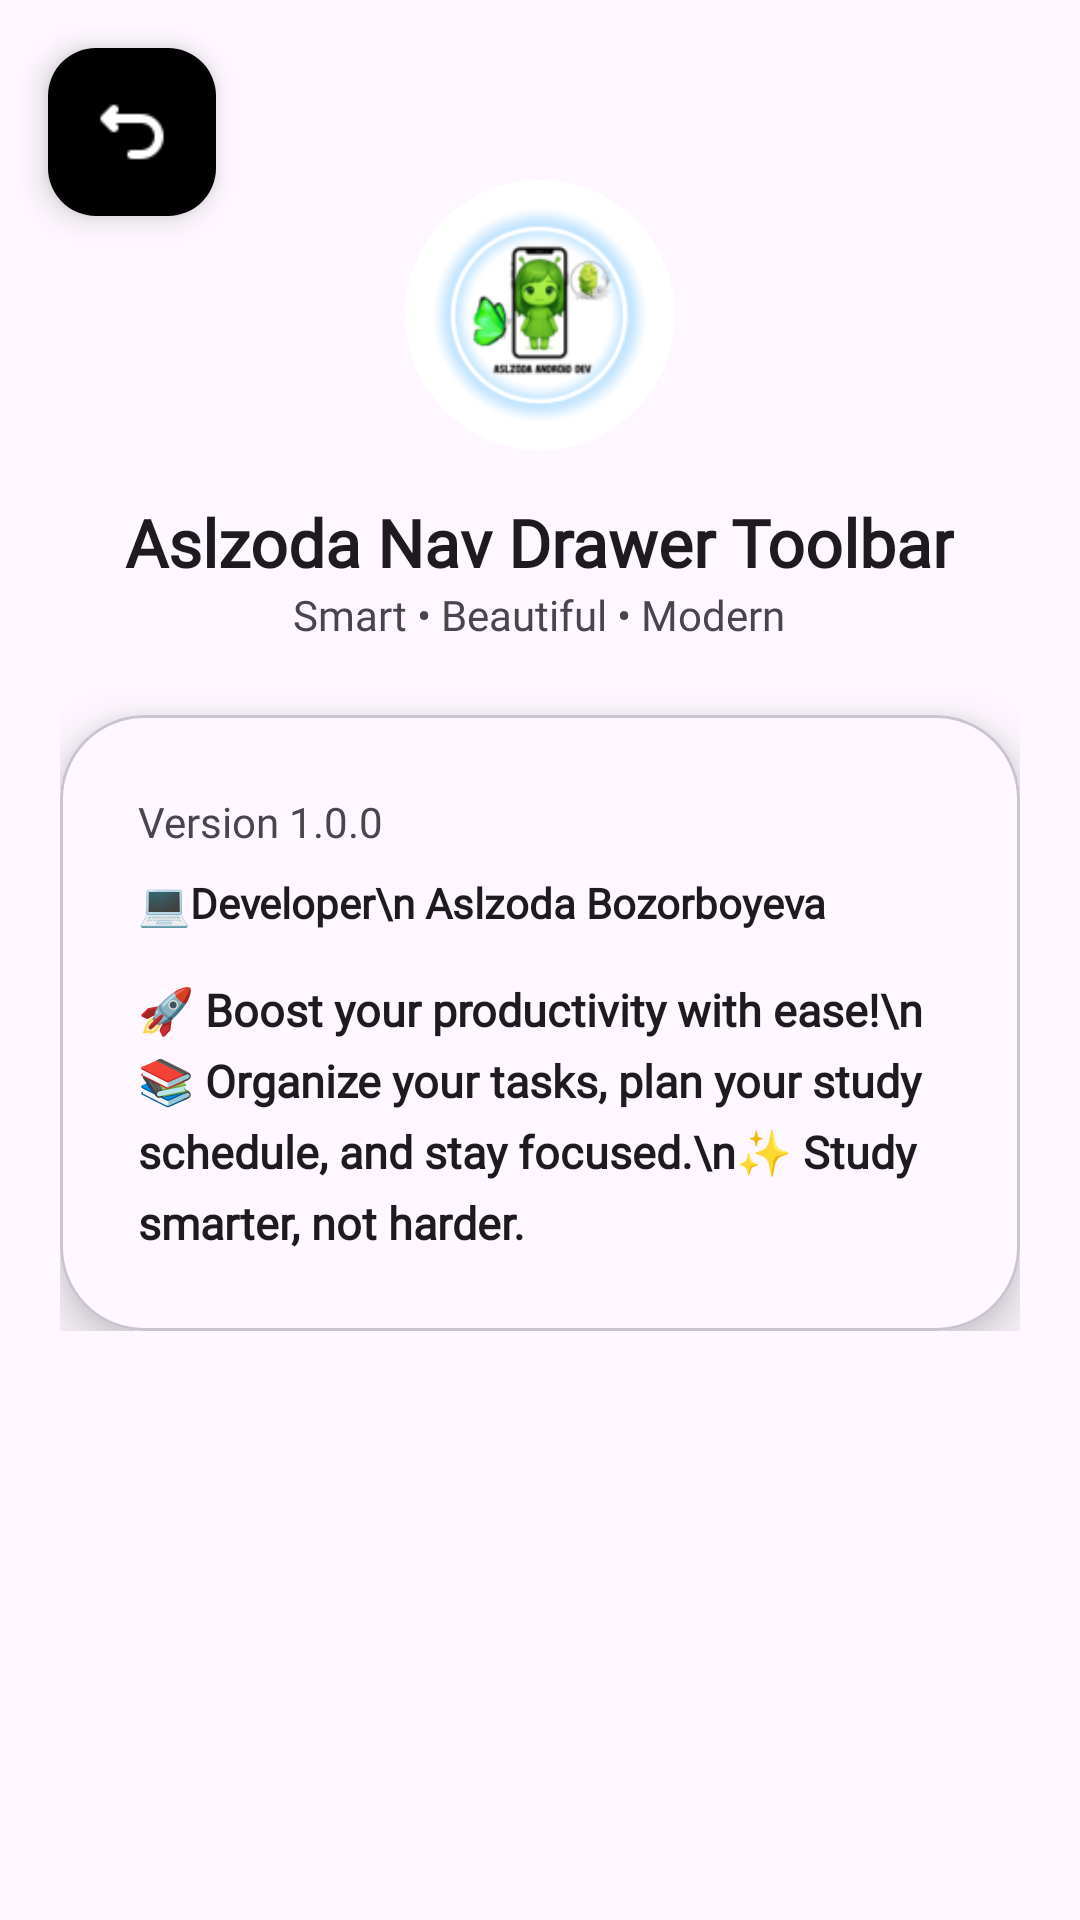

Icon click points for this 1080x1920 phone screenshot, format [x,y]:
Back: [132,132]
